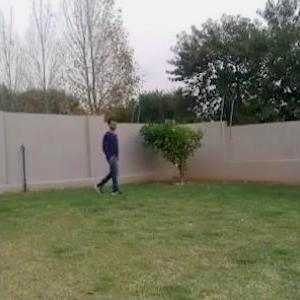follow: (101, 118, 122, 200)
